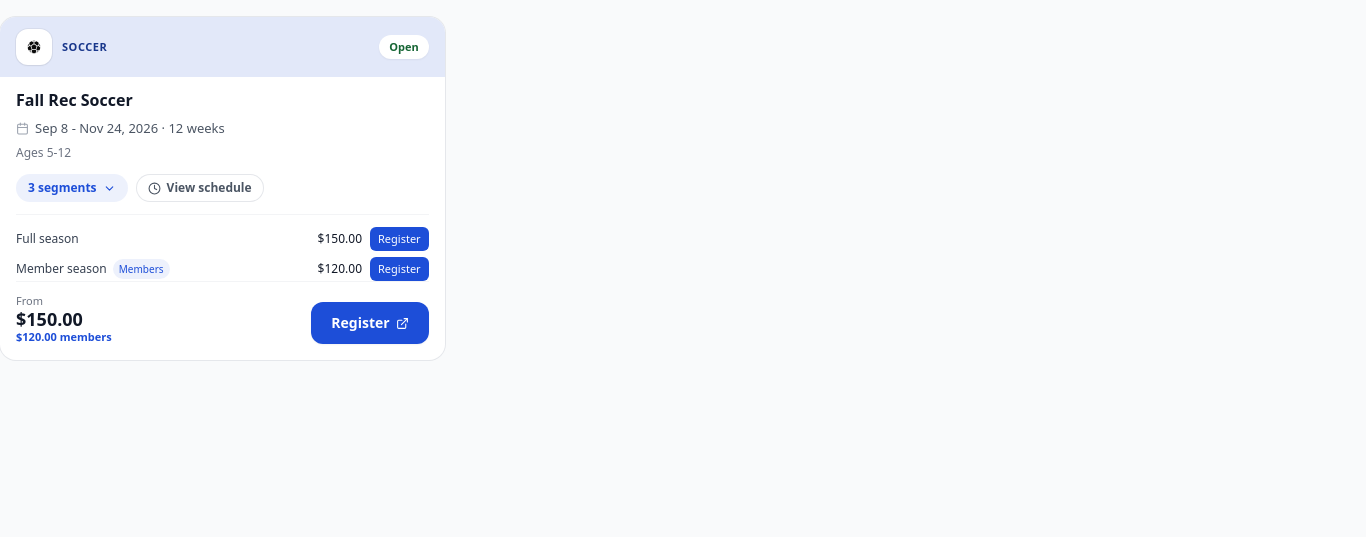
Test: stacked card — session model correctness › summarizes a multi-segment session as a "{n} segments" chip — never a day/time
# Chip expands the existing segments panel inline with the segment rows.
Click the button with test id "portal-v2-segments-chip": point(72, 188) x1=16 y1=174 x2=128 y2=202
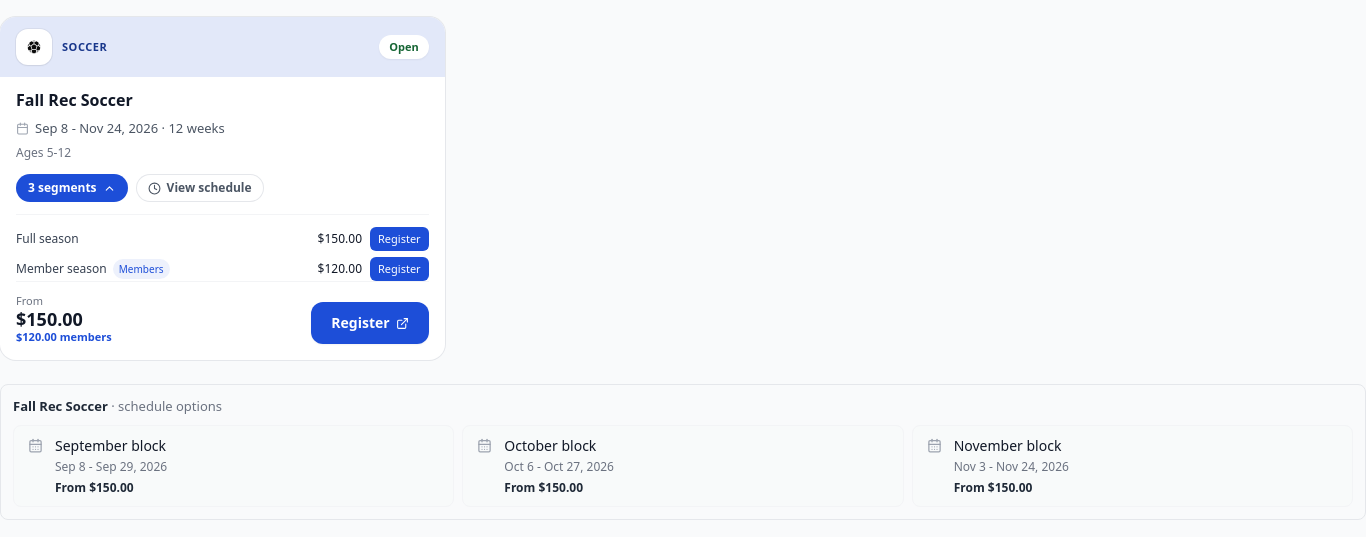
Expected: the text "September block" is shown, x1=55 y1=436 x2=166 y2=455
Expected: the text "October block" is shown, x1=504 y1=436 x2=596 y2=455
Expected: the text "November block" is shown, x1=954 y1=436 x2=1062 y2=455
